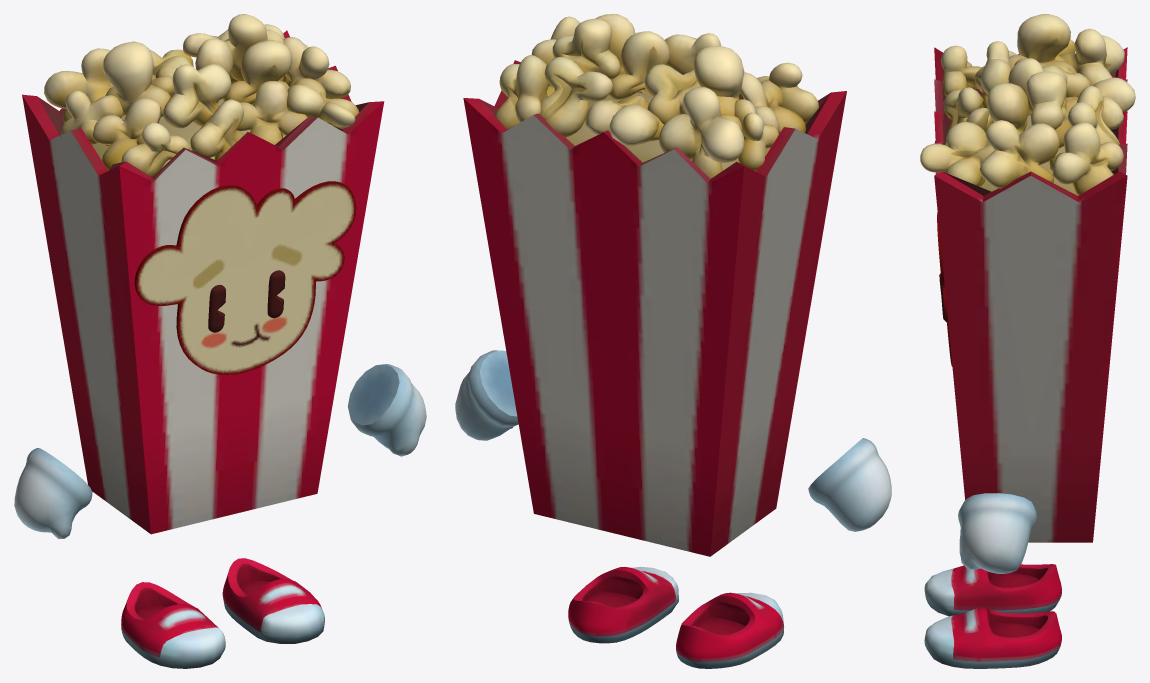
Rendered from popcorn.glb.
3 renders of one model, left to right at view 1: azimuth 30°, elevation 25°; view 2: azimuth 150°, elevation 25°; view 3: azimuth 270°, elevation 25°, orthographic. The views are drawn at different scales.
Parts seen in each view (by area): view 1: Skin709_Popcorn_Hp_0; view 2: Skin709_Popcorn_Hp_0; view 3: Skin709_Popcorn_Hp_0.
Part boxes in pixels (left/top/right/bottom): Skin709_Popcorn_Hp_0: left=14, top=14, right=426, bottom=668; Skin709_Popcorn_Hp_0: left=455, top=14, right=891, bottom=668; Skin709_Popcorn_Hp_0: left=920, top=14, right=1135, bottom=668.
Size of the model in its own units: 1.39 by 1.93 by 0.6521.
1 material, 1 textured.
